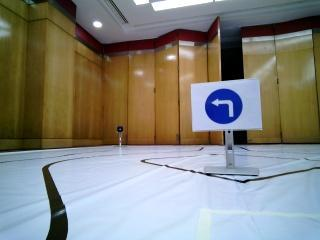left: (192, 87, 262, 130)
